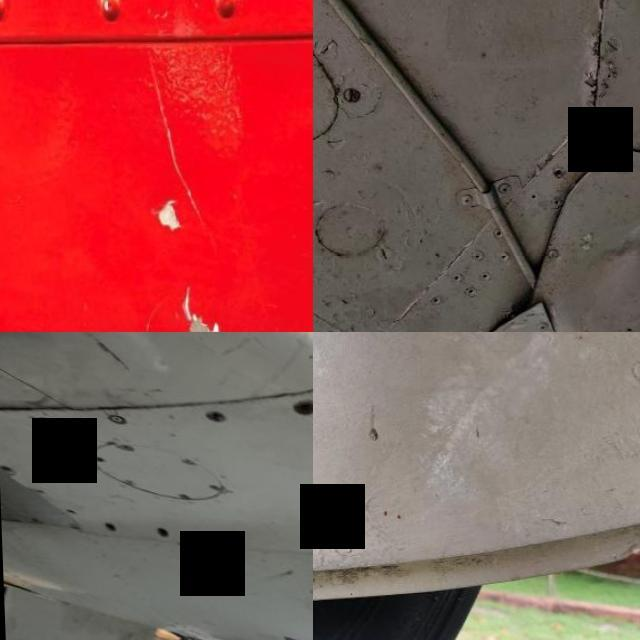Dent: (557, 85, 640, 332), (147, 57, 203, 229), (178, 285, 217, 332), (153, 198, 177, 233)
Missing_Fastener: (28, 415, 56, 430), (287, 400, 313, 415), (203, 532, 220, 546), (148, 527, 170, 536), (100, 520, 114, 534), (0, 463, 12, 474)
